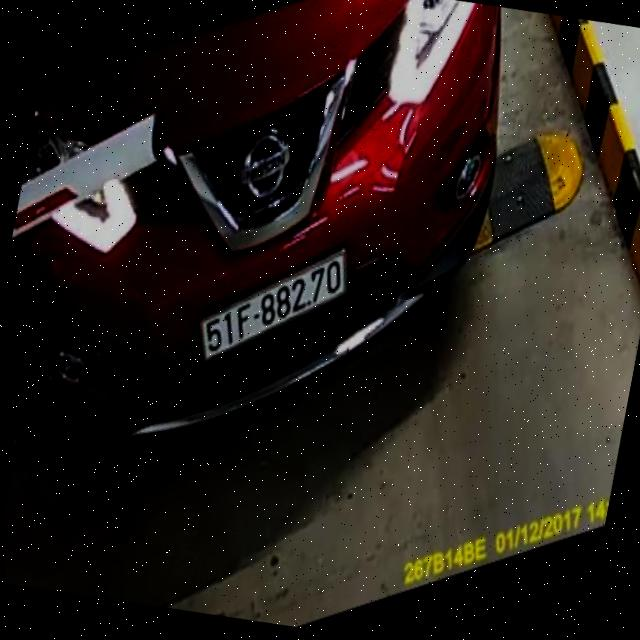car: (0, 0, 541, 517)
plate: (190, 220, 365, 391)
